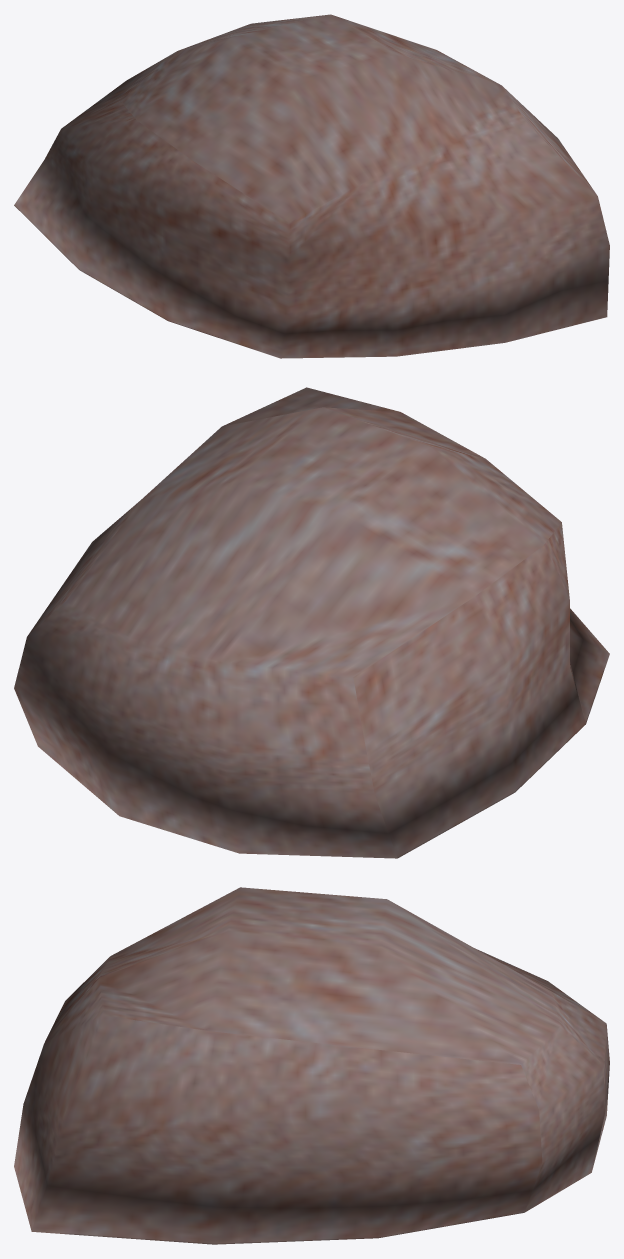
File: SmallRock_A.fbx
3 renders of one model, top to bottom at view 1: azimuth 30°, elevation 25°; view 2: azimuth 150°, elevation 25°; view 3: azimuth 270°, elevation 25°, orthographic. The views are drawn at different scales.
Visible parts, largest first — view 1: pCube1; view 2: pCube1; view 3: pCube1.
Boxes of the visible parts, left/top/right/bottom form: pCube1: left=14, top=14, right=609, bottom=358; pCube1: left=14, top=387, right=609, bottom=858; pCube1: left=14, top=887, right=609, bottom=1244.
Size of the model in its own units: 1.4 by 0.7707 by 1.74.
1 material, 1 textured.
